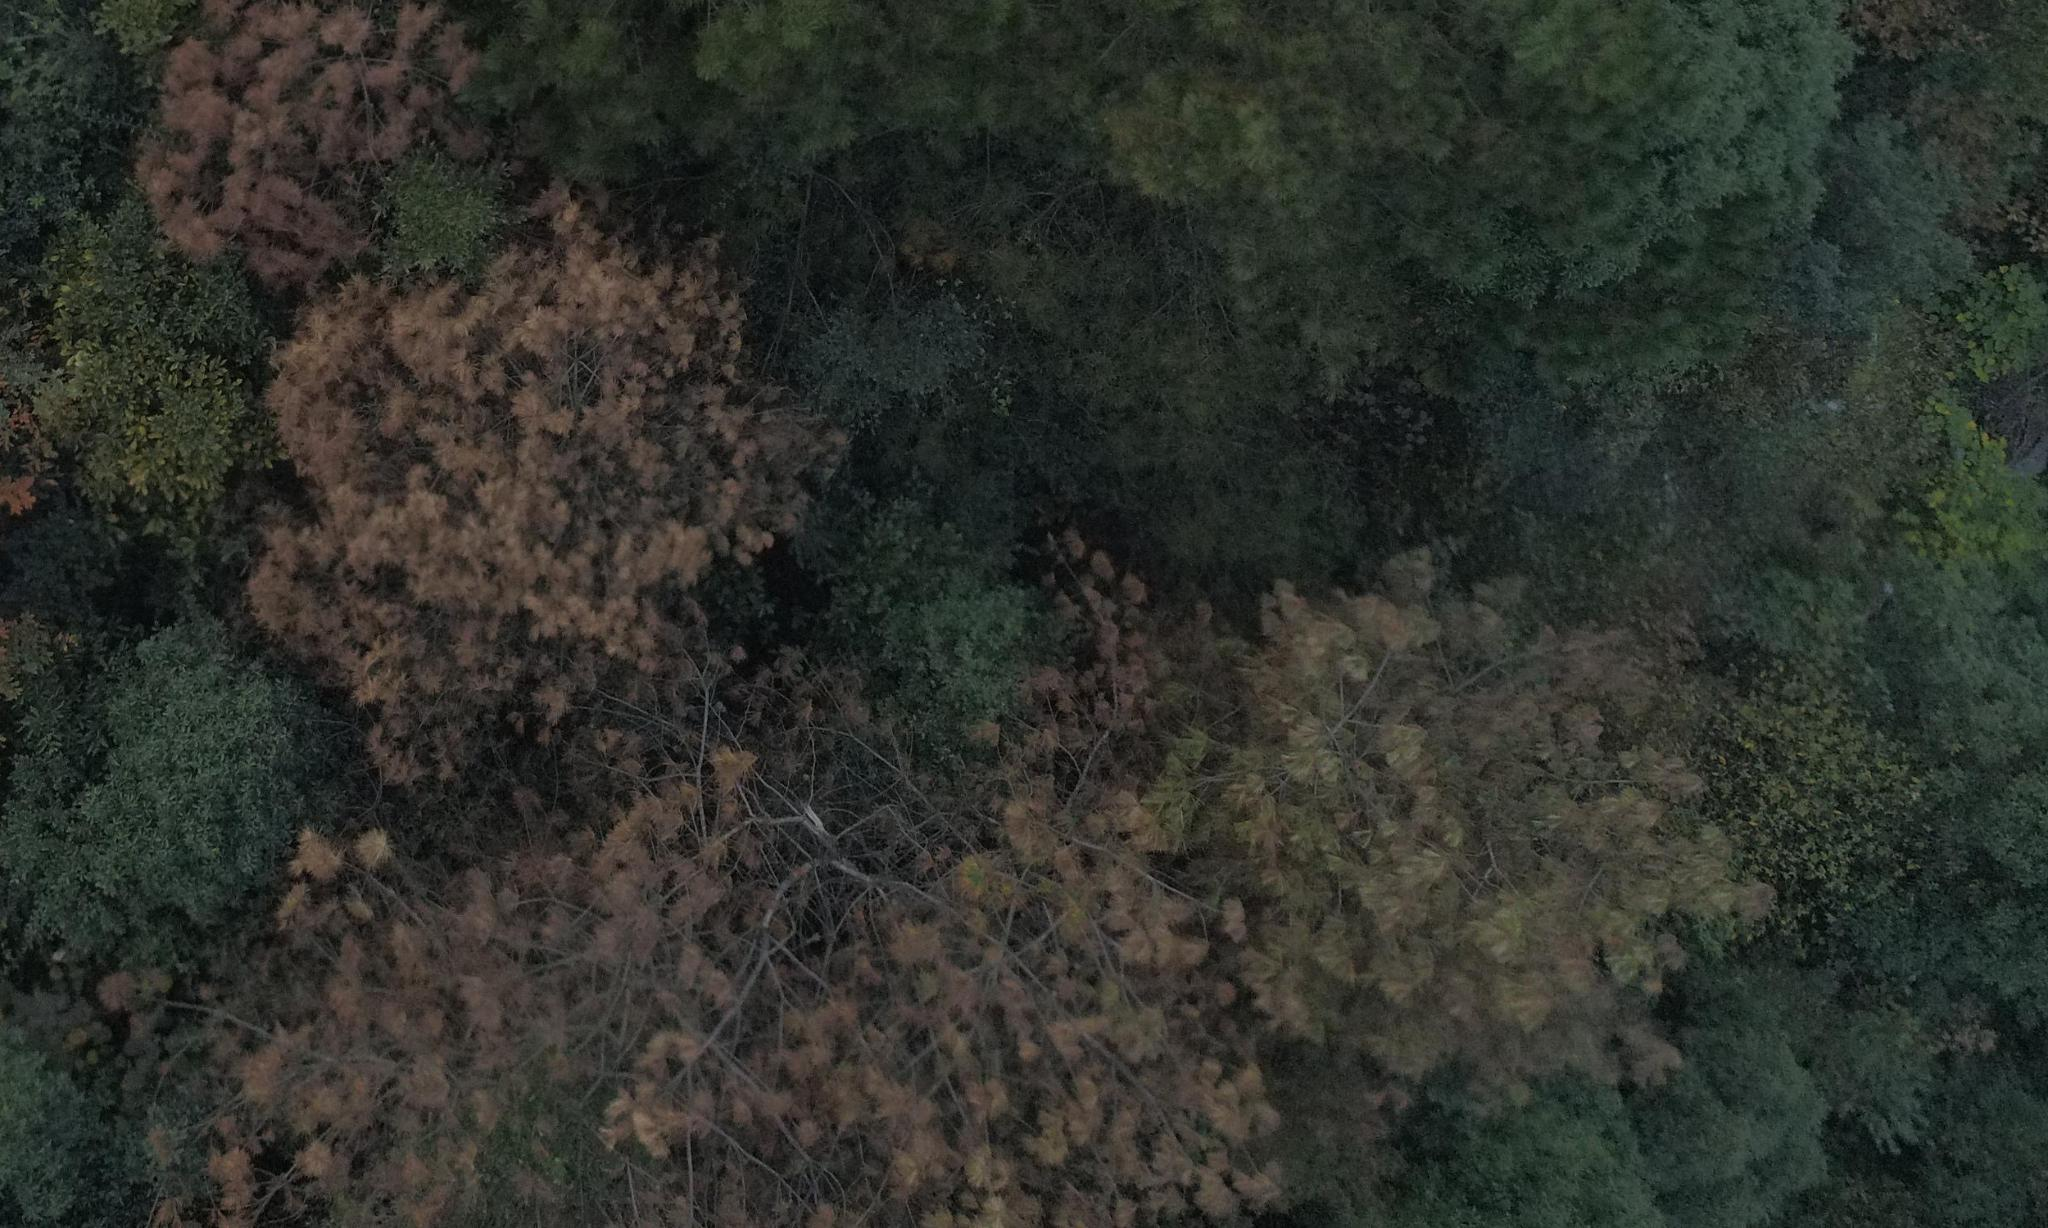heavy: (251, 189, 808, 750), (769, 806, 1281, 1228), (121, 792, 722, 1114), (137, 9, 484, 257)
